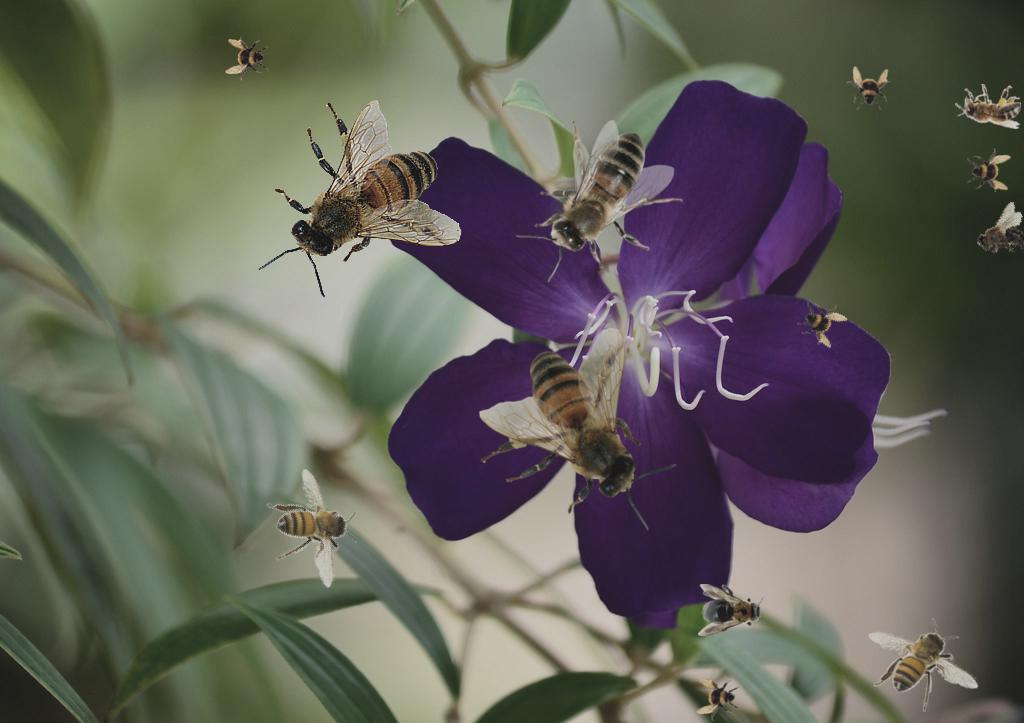Bee: (258, 100, 462, 299), (479, 327, 678, 531), (516, 120, 683, 282), (242, 458, 385, 604), (868, 618, 979, 712), (966, 200, 1024, 278), (792, 292, 852, 352), (698, 584, 766, 636), (955, 84, 1021, 129), (225, 37, 269, 81), (846, 66, 890, 110), (696, 677, 740, 721), (967, 148, 1011, 192)
